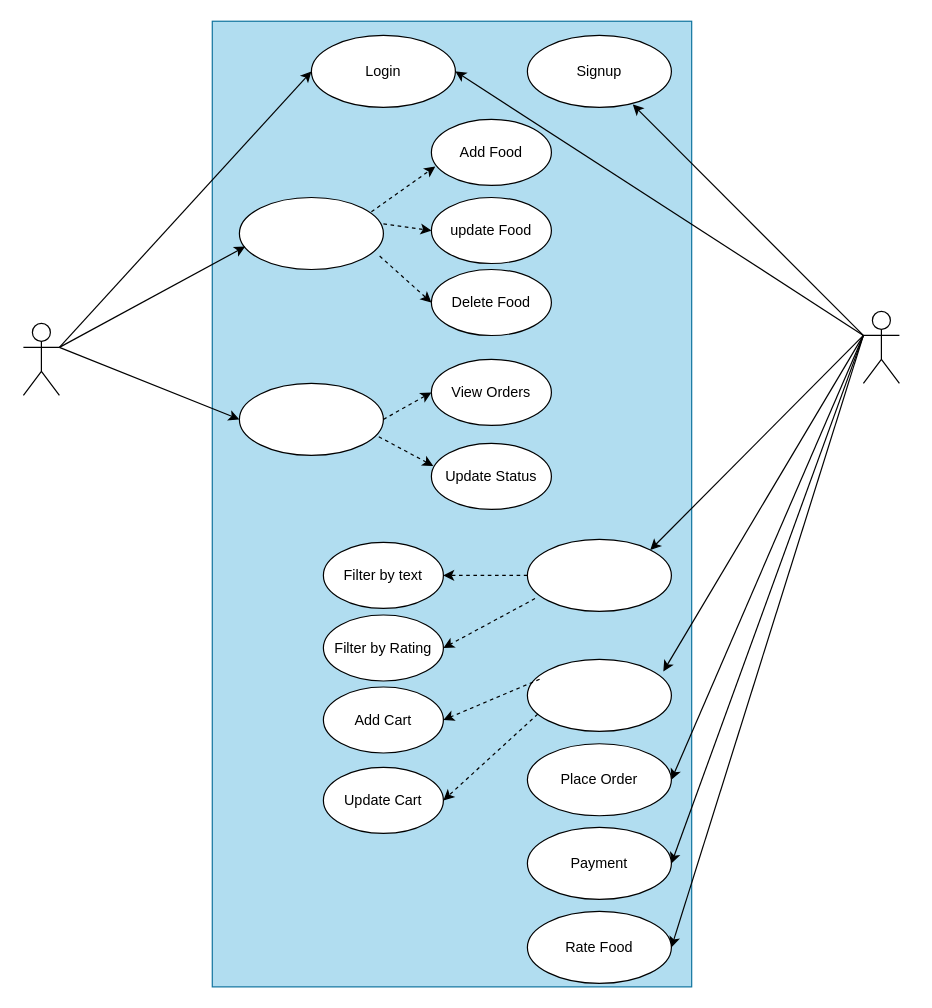
Some shapes in this 932 by 1008 pixel diagram are drawn without their labels. The centre of each missing label's shape, as x and y in pixels:
"Admin" goes at pixel 40 358.
"Customer" goes at pixel 880 346.
"Manage Cart" goes at pixel 598 694.
"Manage Menu" goes at pixel 310 233.
"Manage Order" goes at pixel 310 418.
"Search Food" goes at pixel 598 574.
